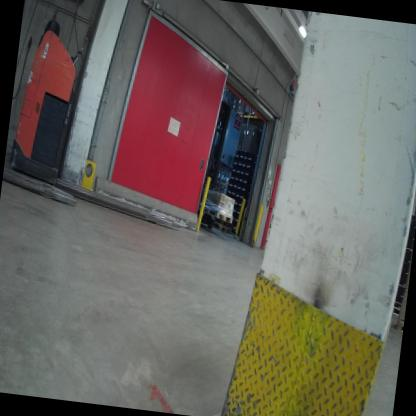pallet: (196, 199, 235, 223), (197, 213, 235, 235), (395, 317, 403, 335)
pallet_truck: (2, 0, 213, 233), (0, 138, 93, 219)
